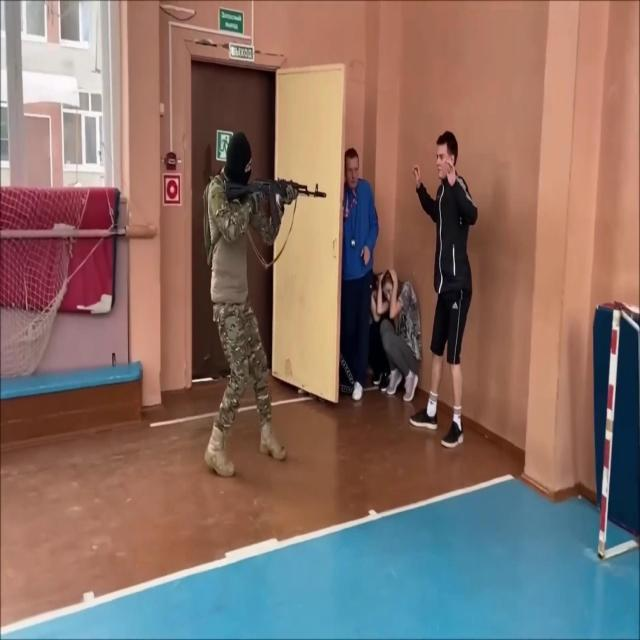pistol: (224, 173, 328, 234)
